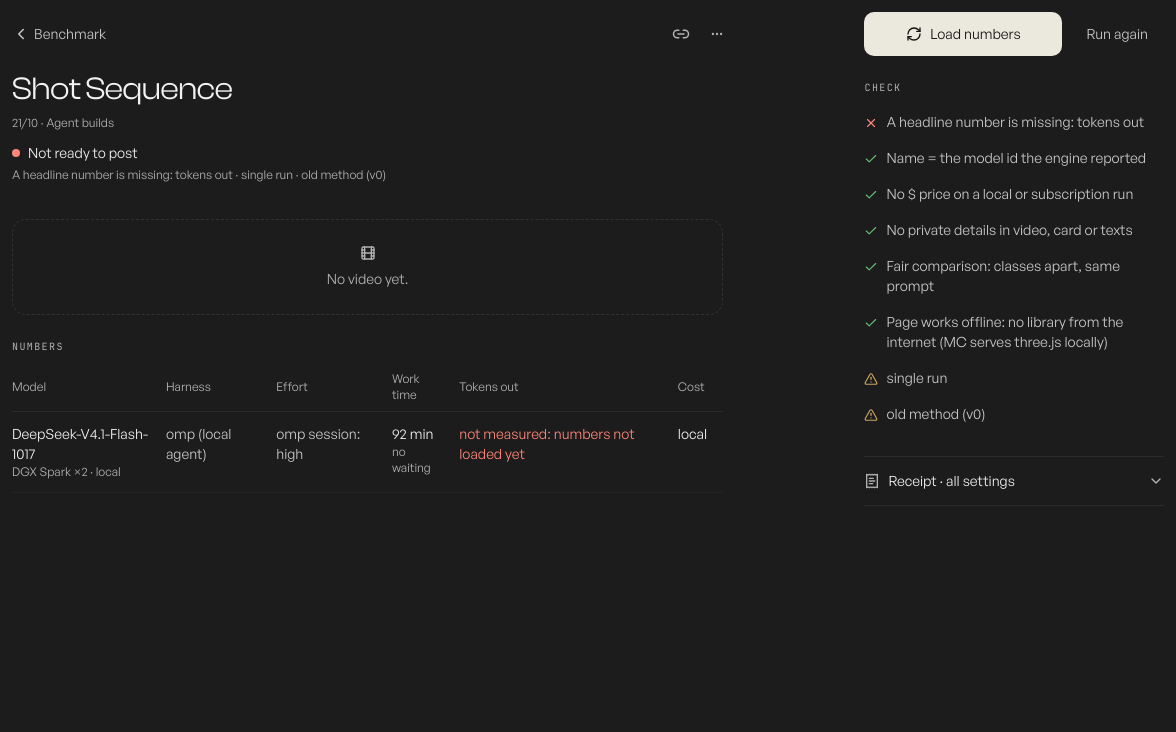
Test case: ResultPage — red agent result (v0) › keeps actions the server did not allow out of the menu
Click the button named "More actions" at x=717, y=34, box [703, 20, 731, 48]
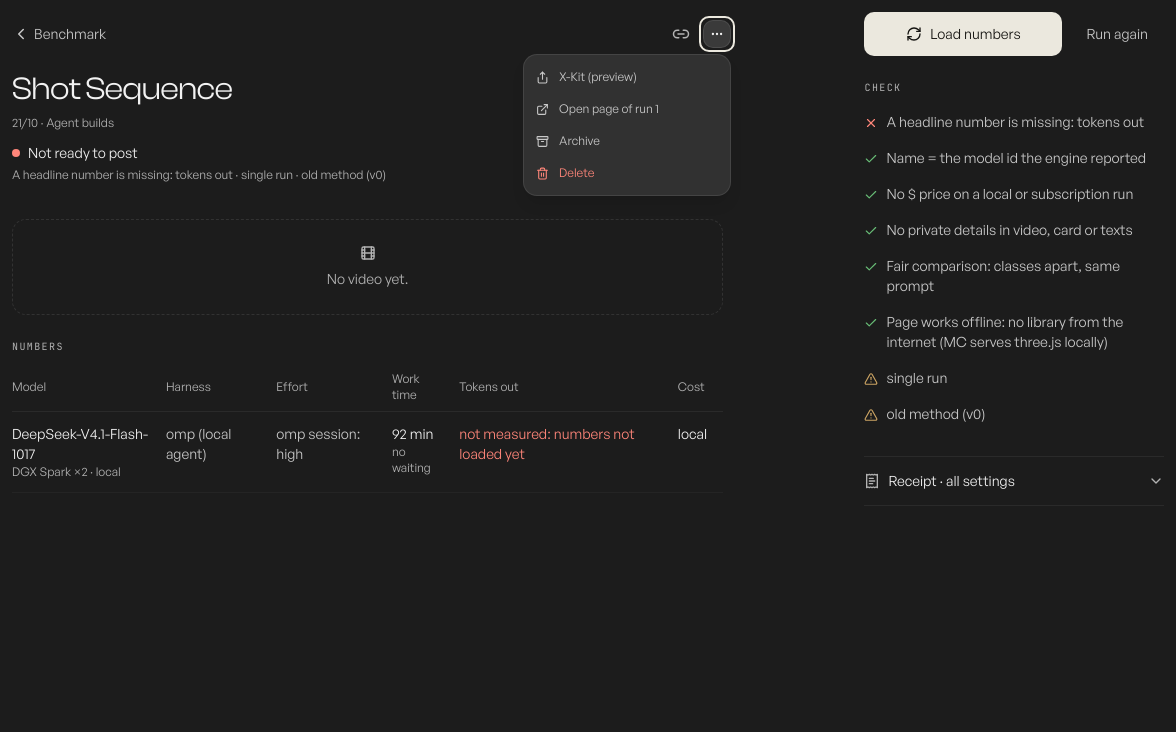
Check: the menu item "Archive" is shown, box [524, 125, 730, 157]
